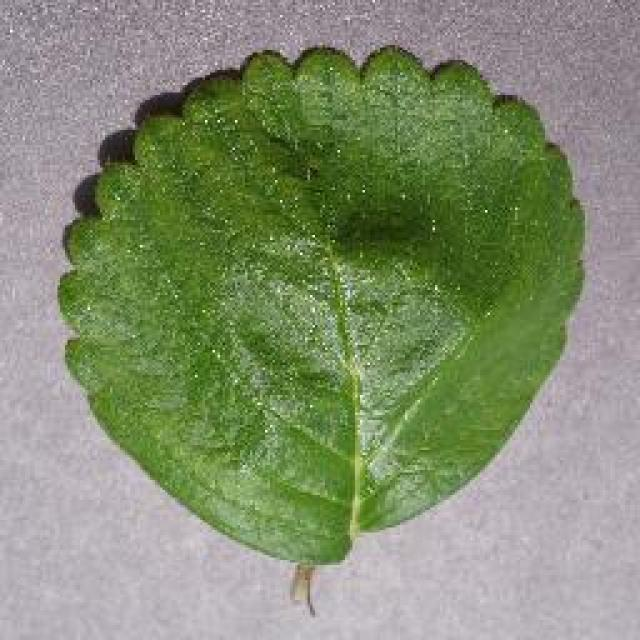Strawberry___healthy: (45, 25, 600, 627)
